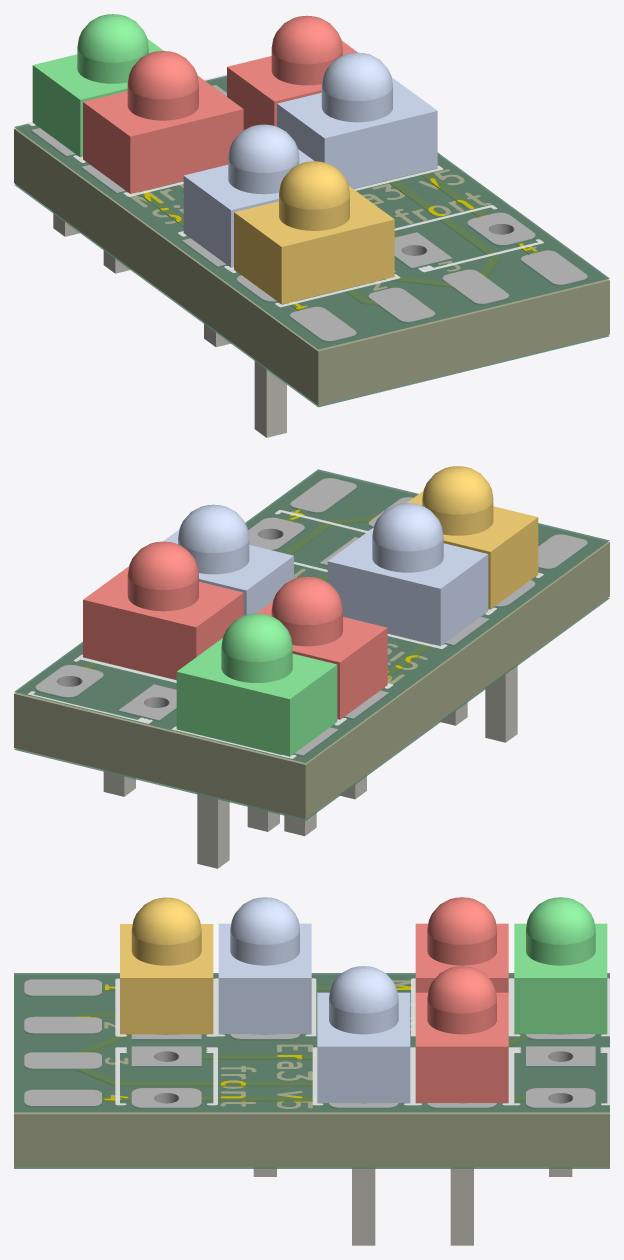
File: MrJ-DB-Era3-prod-exit.glb
3 renders of one model, top to bottom at view 1: azimuth 30°, elevation 25°; view 2: azimuth 150°, elevation 25°; view 3: azimuth 270°, elevation 25°, orthographic. The views are drawn at different scales.
Visible parts, largest first — view 1: =>[0:1:1:15], =>[0:1:1:3] (×2), =>[0:1:1:9] (×2), =>[0:1:1:13], =>[0:1:1:7], =>[0:1:1:11], =>[0:1:1:5], =>[0:1:1:10], =>[0:1:1:12], =>[0:1:1:14]; view 2: =>[0:1:1:15], =>[0:1:1:3] (×2), =>[0:1:1:9] (×2), =>[0:1:1:5], =>[0:1:1:13], =>[0:1:1:7], =>[0:1:1:11], =>[0:1:1:12], =>[0:1:1:14], =>[0:1:1:10]; view 3: =>[0:1:1:15], =>[0:1:1:13], =>[0:1:1:9] (×2), =>[0:1:1:3] (×2), =>[0:1:1:11], =>[0:1:1:5], =>[0:1:1:7], =>[0:1:1:12], =>[0:1:1:10], =>[0:1:1:14].
Part boxes in pixels (x1,y1,x2,y2): =>[0:1:1:15]: [14, 77, 609, 405]; =>[0:1:1:3] (×2): [83, 15, 357, 273]; =>[0:1:1:9] (×2): [183, 52, 437, 347]; =>[0:1:1:13]: [14, 75, 609, 349]; =>[0:1:1:7]: [234, 161, 394, 437]; =>[0:1:1:11]: [31, 85, 587, 341]; =>[0:1:1:5]: [32, 14, 163, 236]; =>[0:1:1:10]: [140, 173, 537, 310]; =>[0:1:1:12]: [27, 74, 543, 307]; =>[0:1:1:14]: [14, 184, 609, 407]; =>[0:1:1:15]: [14, 471, 609, 818]; =>[0:1:1:3] (×2): [83, 541, 387, 831]; =>[0:1:1:9] (×2): [163, 503, 488, 725]; =>[0:1:1:5]: [176, 613, 337, 868]; =>[0:1:1:13]: [14, 469, 609, 762]; =>[0:1:1:7]: [407, 466, 538, 742]; =>[0:1:1:11]: [35, 478, 587, 756]; =>[0:1:1:12]: [28, 510, 543, 758]; =>[0:1:1:14]: [14, 598, 609, 820]; =>[0:1:1:10]: [84, 509, 538, 678]; =>[0:1:1:15]: [14, 975, 609, 1167]; =>[0:1:1:13]: [14, 973, 609, 1112]; =>[0:1:1:9] (×2): [218, 897, 410, 1245]; =>[0:1:1:3] (×2): [415, 897, 508, 1245]; =>[0:1:1:11]: [24, 979, 595, 1108]; =>[0:1:1:5]: [514, 897, 607, 1176]; =>[0:1:1:7]: [120, 897, 213, 1034]; =>[0:1:1:12]: [115, 978, 609, 1105]; =>[0:1:1:10]: [76, 986, 528, 1101]; =>[0:1:1:14]: [14, 1167, 609, 1168].
Bounding box in the file's own units: 0.00851 × 0.0071 × 0.0154.
